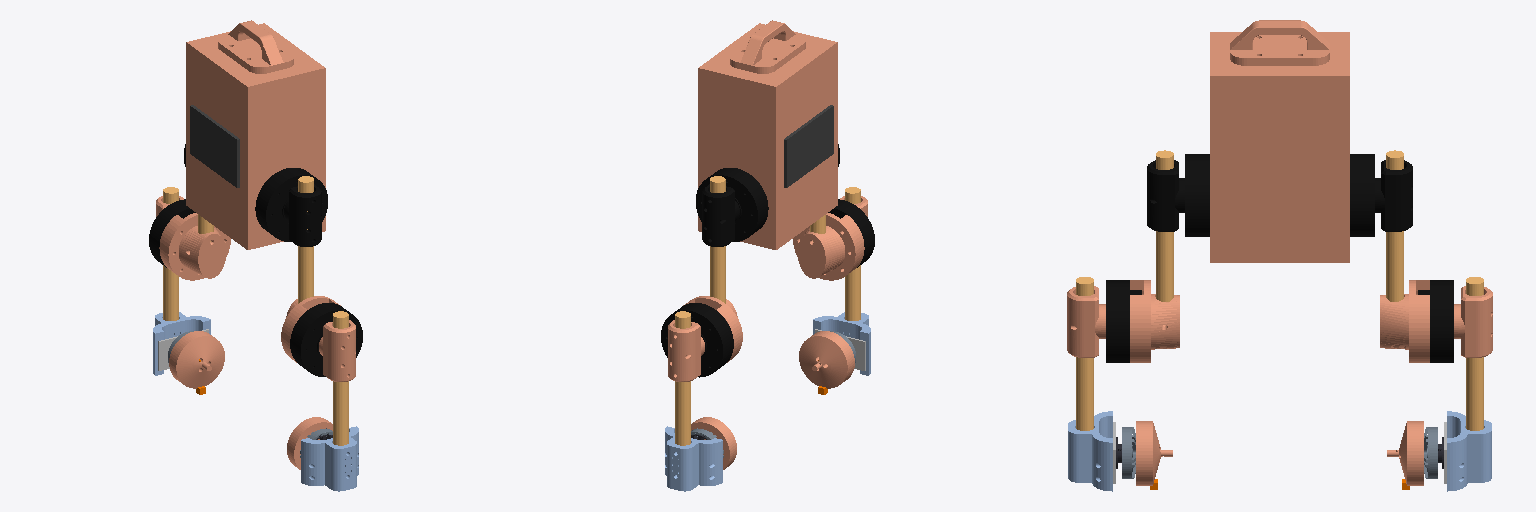
--- Render facts (derived) ---
3 views of the same robot in one strip: view 1: azimuth 30°, elevation 25°; view 2: azimuth 150°, elevation 25°; view 3: azimuth 270°, elevation 25° (orthographic).
Robot: upkie — 39 links, 38 joints (6 revolute, 32 fixed); root link base; default pose: all joints at 0.
Links seen in each view (by area): view 1: chassis, left_knee_stator, right_ankle_base, battery, handle, left_wheel_hub, right_knee_qdd100_stator, right_hip_qdd100_stator, right_hip_horn, right_knee_horn, right_tibia, left_ankle_base (+5 smaller); view 2: chassis, right_knee_stator, left_ankle_base, battery, handle, right_wheel_hub, left_knee_qdd100_stator, left_hip_qdd100_stator, left_hip_horn, left_knee_horn, left_tibia, right_ankle_base (+5 smaller); view 3: chassis, handle, right_knee_stator, left_knee_stator, left_ankle_base, right_ankle_base, left_knee_horn, right_knee_horn, left_hip_horn, right_hip_horn, left_hip_qdd100_stator, right_hip_qdd100_stator (+10 smaller).
Boxes of the visible links, x1=… form: chassis: x1=186, y1=23, x2=325, y2=249; left_knee_stator: x1=159, y1=213, x2=230, y2=280; right_ankle_base: x1=301, y1=426, x2=358, y2=491; battery: x1=190, y1=105, x2=239, y2=187; handle: x1=218, y1=20, x2=293, y2=73; left_wheel_hub: x1=169, y1=331, x2=224, y2=388; right_knee_qdd100_stator: x1=290, y1=303, x2=362, y2=376; right_hip_qdd100_stator: x1=255, y1=168, x2=327, y2=241; right_hip_horn: x1=284, y1=184, x2=321, y2=246; right_knee_horn: x1=319, y1=320, x2=355, y2=381; right_tibia: x1=333, y1=311, x2=348, y2=445; left_ankle_base: x1=153, y1=312, x2=210, y2=375; chassis: x1=698, y1=23, x2=837, y2=249; right_knee_stator: x1=793, y1=213, x2=864, y2=280; left_ankle_base: x1=665, y1=426, x2=722, y2=491; battery: x1=784, y1=105, x2=833, y2=187; handle: x1=730, y1=20, x2=805, y2=73; right_wheel_hub: x1=799, y1=331, x2=854, y2=388; left_knee_qdd100_stator: x1=661, y1=303, x2=733, y2=377; left_hip_qdd100_stator: x1=696, y1=168, x2=768, y2=241; left_hip_horn: x1=702, y1=184, x2=739, y2=246; left_knee_horn: x1=668, y1=320, x2=704, y2=381; left_tibia: x1=675, y1=311, x2=690, y2=445; right_ankle_base: x1=813, y1=312, x2=870, y2=375; chassis: x1=1210, y1=32, x2=1349, y2=262; handle: x1=1230, y1=20, x2=1329, y2=65; right_knee_stator: x1=1130, y1=280, x2=1179, y2=362; left_knee_stator: x1=1380, y1=280, x2=1429, y2=362; left_ankle_base: x1=1447, y1=411, x2=1491, y2=491; right_ankle_base: x1=1068, y1=411, x2=1112, y2=491; left_knee_horn: x1=1454, y1=286, x2=1492, y2=357; right_knee_horn: x1=1067, y1=286, x2=1105, y2=357; left_hip_horn: x1=1375, y1=160, x2=1412, y2=231; right_hip_horn: x1=1147, y1=160, x2=1184, y2=231; left_hip_qdd100_stator: x1=1350, y1=154, x2=1374, y2=236; right_hip_qdd100_stator: x1=1185, y1=154, x2=1209, y2=236.
Size in the robot's own frame: 0.13 by 0.5144 by 0.6189 metres.
23 mesh visuals loaded from 10 distinct referenced files (9 binary STL); not drawn: 2 (reference not matched to a file when rendering).

The robot description file, URDF, robot "upkie":
<?xml version="1.0" encoding="utf-8" ?>
<!--

Copyright 2022 Stéphane Caron

Licensed under the Apache License, Version 2.0 (the "License");
you may not use this file except in compliance with the License.
You may obtain a copy of the License at

    http://www.apache.org/licenses/LICENSE-2.0

Unless required by applicable law or agreed to in writing, software
distributed under the License is distributed on an "AS IS" BASIS,
WITHOUT WARRANTIES OR CONDITIONS OF ANY KIND, either express or implied.
See the License for the specific language governing permissions and
limitations under the License.

Conventions in this file:

- Links and joints are grouped by "assemblies", for example "left_hip" or
  "right_knee". We can recognize assemblies in link and joint names.

- A link is named "<assembly>_<identifier>", for example
  "left_hip_qdd100_stator" denotes the stator of the qdd100 of the left hip.

- A fixed joint is named "<child_link>_fix", for instance the
  "left_hip_qdd100_stator_fix" that attaches the qdd100 stator of the left-hip
  assembly to the chassis.

Note that the moteus convention is that positive angles correspond to clockwise
rotations when looking at the rotor / back of the moteus board. This is
opposite to the URDF default, so our motor stator-rotor joint axes are aligned
with the -z axis of the joint frame. See:
https://jpieper.com/2021/04/30/moteus-direction-configuration/

And in case of doubt:

- https://wiki.ros.org/urdf/XML/joint
- https://wiki.ros.org/urdf/XML/link

-->
<robot name="upkie">

    <material name="black">
        <color rgba="0.1 0.1 0.1 1" />
    </material>

    <material name="dark_gray">
        <color rgba="0.3 0.3 0.3 1" />
    </material>

    <material name="light_gray">
        <color rgba="0.8 0.8 0.8 1" />
    </material>

    <material name="orange">
        <color rgba="1.0 0.5 0.0 1" />
    </material>

    <material name="light_wood">
        <color rgba="1 0.77 0.48 1" />
    </material>

    <material name="terracotta_light">
        <color rgba="0.93 0.64 0.52 1" />
    </material>

    <material name="terracotta_transparent">
        <color rgba="0.93 0.64 0.52 0.8" />
    </material>

    <material name="chalky_blue">
        <color rgba="0.65 0.76 0.91 1" />
    </material>

    <material name="mj5208_rotor">
        <color rgba="0.5 0.55 0.6 1.0" />
    </material>

    <material name="mj5208_stator">
        <color rgba="0.22 0.22 0.25 1.0" />
    </material>

    <link name="base">
        <visual>
            <geometry>
                <box size="0.01 0.001 0.001" />
            </geometry>
            <material name="orange" />
        </visual>
        <collision>
            <geometry>
                <box size="0.01 0.01 0.01" />
            </geometry>
        </collision>
        <inertial>
            <mass value="0.001" />
            <!-- ./box_inertia.py 0.001 0.01 0.01 0.01 -->
            <inertia ixx="1.6666666666666667e-08" ixy="0" ixz="0" iyx="0" iyy="1.6666666666666667e-08" iyz="0" izx="0" izy="0" izz="1.6666666666666667e-08" />
        </inertial>
    </link>

    <!-- IMU -->

    <link name="imu">
        <visual>
            <geometry>
                <box size="0.01 0.01 0.01" />
            </geometry>
            <material name="orange" />
        </visual>
        <collision>
            <geometry>
                <box size="0.01 0.01 0.01" />
            </geometry>
        </collision>
        <inertial>
            <mass value="0.001" />
            <!-- ./box_inertia.py 0.001 0.01 0.01 0.01 -->
            <inertia ixx="1.6666666666666667e-08" ixy="0" ixz="0" iyx="0" iyy="1.6666666666666667e-08" iyz="0" izx="0" izy="0" izz="1.6666666666666667e-08" />
        </inertial>
    </link>

    <joint name="imu_fix" type="fixed">
        <origin rpy="0 0 3.141592653589793" xyz="0 0 0"/>  <!-- no translation -->
        <parent link="base" />
        <child link="imu" />
    </joint>

    <!-- Chassis -->

    <link name="chassis">
        <visual>
            <geometry>
                <box size="0.125 0.17 0.25" />
            </geometry>
            <material name="terracotta_transparent" />
        </visual>
        <collision>
            <geometry>
                <box size="0.125 0.17 0.25" />
            </geometry>
        </collision>
        <inertial>
            <mass value="1.0" />  <!-- measured net mass (5.4 [kg]) minus everything else -->
            <!-- ./box_inertia.py 1.0 0.125 0.17 0.25 -->
            <inertia ixx="0.007616666666666667" ixy="0" ixz="0" iyx="0" iyy="0.006510416666666666" iyz="0" izx="0" izy="0" izz="0.0037104166666666674" />
        </inertial>
    </link>

    <joint name="chassis_fix" type="fixed">
        <origin rpy="0 0 0" xyz="0 0 -0.1"/>
        <parent link="base" />
        <child link="chassis" />
    </joint>

    <!-- Battery -->

    <link name="battery">
        <visual>
            <geometry>
                <box size="0.13 0.074 0.055" />
            </geometry>
            <material name="dark_gray" />
        </visual>
        <collision>
            <geometry>
                <box size="0.13 0.074 0.055" />
            </geometry>
        </collision>
        <inertial>
            <mass value="0.800" />  <!-- imprecise measurement -->
            <!-- ./box_inertia.py 0.800 0.13 0.074 0.055 -->
            <inertia ixx="0.0005667333333333332" ixy="0" ixz="0" iyx="0" iyy="0.0013283333333333335" iyz="0" izx="0" izy="0" izz="0.0014917333333333332" />
        </inertial>
    </link>

    <joint name="battery_fix" type="fixed">
        <origin rpy="1.5707963267948966 0 1.5707963267948966" xyz="-0.04 0 0"/>
        <parent link="chassis" />
        <child link="battery" />
    </joint>

    <!-- Handle -->

    <link name="handle">
        <visual>
            <geometry>
                <mesh filename="package://upkie_description/meshes/handle.stl" />
            </geometry>
            <material name="terracotta_light" />
        </visual>
        <collision>
            <origin rpy="0 0 0" xyz="0 0 0.01"/>
            <geometry>
                <box size="0.120 0.07 0.04" />
            </geometry>
        </collision>
        <inertial>
            <origin rpy="0 0 0" xyz="0 0 0.01"/>
            <mass value="0.0525"/>  <!-- measured -->
            <!-- ./box_inertia.py 0.0525 0.120 0.07 0.04 -->
            <inertia ixx="2.84375e-05" ixy="0" ixz="0" iyx="0" iyy="7e-05" iyz="0" izx="0" izy="0" izz="8.44375e-05" />
        </inertial>
    </link>

    <joint name="handle_fix" type="fixed">
        <origin rpy="0 0 -1.5707963267948966" xyz="0 0 0.135"/>
        <parent link="chassis" />
        <child link="handle" />
    </joint>

    <!-- Left leg -->

    <!-- Left hip -->

    <link name="left_hip_qdd100_stator">
        <visual>
            <geometry>
                <mesh filename="package://upkie_description/meshes/mjbots/qdd100_stator.stl" />
            </geometry>
            <material name="black" />
        </visual>
        <collision>
            <origin rpy="0 0 0" xyz="0 0 0.015"/>
            <geometry>
                <cylinder radius="0.05" length="0.03" />
            </geometry>
        </collision>
        <inertial>
            <origin rpy="0 0 0" xyz="0 0 0.015"/>
            <mass value="0.47" />  <!-- guessed from spec -->
            <!-- ./cylinder_inertia.py 0.470 0.05 0.03 -->
            <inertia ixx="0.000329" ixy="0" ixz="0" iyx="0" iyy="0.000329" iyz="0" izx="0" izy="0" izz="0.0005875" />
        </inertial>
    </link>

    <joint name="left_hip_qdd100_stator_fix" type="fixed">
        <origin rpy="-1.5707963267948966 0 0" xyz="0.0 0.085 -0.064"/>
        <parent link="chassis" />
        <child link="left_hip_qdd100_stator" />
    </joint>

    <link name="left_hip_qdd100_rotor">
        <visual>
            <geometry>
                <mesh filename="package://upkie_description/meshes/mjbots/qdd100_rotor.stl" />
            </geometry>
            <material name="black" />
        </visual>
        <collision>
            <origin rpy="0 0 0" xyz="0 0 -0.0025"/>
            <geometry>
                <cylinder radius="0.023" length="0.005" />
            </geometry>
        </collision>
        <inertial>
            <origin rpy="0 0 0" xyz="0 0 -0.0025"/>
            <mass value="0.015" />  <!-- guessed from spec -->
            <!-- ./cylinder_inertia.py 0.015 0.023 0.005 -->
            <inertia ixx="2.0149999999999998e-06" ixy="0" ixz="0" iyx="0" iyy="2.0149999999999998e-06" iyz="0" izx="0" izy="0" izz="3.9675e-06" />
        </inertial>
    </link>

    <joint name="left_hip" type="revolute">
        <parent link="left_hip_qdd100_stator"/>
        <child link="left_hip_qdd100_rotor"/>
        <origin rpy="0 0 0" xyz="0 0 0.0292"/>
        <axis xyz="0 0 -1"/>  <!-- search "moteus-direction-configuration" -->
        <limit lower="-1.54" upper="1.54" velocity="0.7" effort="10.0"/>
    </joint>

    <link name="left_hip_horn">
        <visual>
            <geometry>
                <mesh filename="package://upkie_description/meshes/mjbots/qdd100_horn.stl" />
            </geometry>
            <material name="black" />
        </visual>
        <collision>
            <origin rpy="0 1.5707963267948966 0" xyz="0 0 0.025"/>
            <geometry>
                <cylinder radius="0.025" length="0.09" />
            </geometry>
        </collision>
        <inertial>
            <origin rpy="0 1.5707963267948966 0" xyz="0 0 0.025"/>
            <mass value="0.05267" />  <!-- measured, with screws -->
            <!-- ./cylinder_inertia.py 0.05267 0.025 0.09 -->
            <inertia ixx="4.37819375e-05" ixy="0" ixz="0" iyx="0" iyy="4.37819375e-05" iyz="0" izx="0" izy="0" izz="1.6459375e-05" />
        </inertial>
    </link>

    <joint name="left_hip_horn_fix" type="fixed">
        <parent link="left_hip_qdd100_rotor"/>
        <child link="left_hip_horn"/>
        <origin rpy="0 0 1.5707963267948966" xyz="0 0 0"/>
    </joint>

    <!-- Left femur -->

    <link name="left_femur">
        <visual>
            <geometry>
                <cylinder length="0.25" radius="0.011"/>
            </geometry>
            <material name="light_wood" />
        </visual>
        <collision>
            <geometry>
                <cylinder radius="0.012" length="0.26" />
            </geometry>
            <material name="light_wood" />
        </collision>
        <inertial>
            <mass value="0.056" />  <!-- measured, average over four sticks -->
            <!-- ./cylinder_inertia.py 0.056 0.012 0.026 -->
            <inertia ixx="5.170666666666667e-06" ixy="0" ixz="0" iyx="0" iyy="5.170666666666667e-06" iyz="0" izx="0" izy="0" izz="4.0320000000000005e-06" />
        </inertial>
    </link>

    <joint name="left_femur_fix" type="fixed">
        <parent link="left_hip_qdd100_rotor"/>
        <child link="left_femur"/>
        <origin rpy="1.5707963267948966 0 0" xyz="0 0.07 0.025"/>
    </joint>

    <!-- Left knee -->

    <joint name="left_knee_stator_fix" type="fixed">
        <parent link="left_femur"/>
        <child link="left_knee_stator"/>
        <origin rpy="0 0 -1.5707963267948966" xyz="0 0.042 -0.098"/>
    </joint>

    <link name="left_knee_stator">
        <visual>
            <geometry>
                <mesh filename="package://upkie_description/meshes/knee_stator.stl" />
            </geometry>
            <material name="terracotta_light" />
        </visual>
        <collision>
            <origin rpy="0 1.5707963267948966 0" xyz="0.03 0 0"/>
            <geometry>
                <cylinder radius="0.05" length="0.06" />
            </geometry>
        </collision>
        <inertial>
            <origin rpy="0 1.5707963267948966 0" xyz="0.03 0 0"/>
            <mass value="0.09874" />  <!-- Used Filament estimate from Prusa Slicer -->
            <!-- ./cylinder_inertia.py 0.09874 0.05 0.06 -->
            <inertia ixx="9.133450000000001e-05" ixy="0" ixz="0" iyx="0" iyy="9.133450000000001e-05" iyz="0" izx="0" izy="0" izz="0.000123425" />
        </inertial>
    </link>

    <link name="left_knee_qdd100_stator">
        <visual>
            <geometry>
                <mesh filename="package://upkie_description/meshes/mjbots/qdd100_stator.stl" />
            </geometry>
            <material name="black" />
        </visual>
        <collision>
            <origin rpy="0 0 0" xyz="0 0 0.015"/>
            <geometry>
                <cylinder radius="0.05" length="0.03" />
            </geometry>
        </collision>
        <inertial>
            <origin rpy="0 0 0" xyz="0 0 0.015"/>
            <mass value="0.47" />  <!-- guessed from spec -->
            <!-- ./cylinder_inertia.py 0.470 0.05 0.03 -->
            <inertia ixx="0.000329" ixy="0" ixz="0" iyx="0" iyy="0.000329" iyz="0" izx="0" izy="0" izz="0.0005875" />
        </inertial>
    </link>

    <joint name="left_knee_qdd100_stator_fix" type="fixed">
        <parent link="left_knee_stator"/>
        <child link="left_knee_qdd100_stator"/>
        <origin rpy="-1.5707963267948966 0 1.5707963267948966" xyz="0 0 0"/>
    </joint>

    <joint name="left_knee" type="revolute">
        <parent link="left_knee_qdd100_stator"/>
        <child link="left_knee_qdd100_rotor"/>
        <origin rpy="0 0 0" xyz="0 0 0.0292"/>
        <axis xyz="0 0 -1"/>  <!-- search "moteus-direction-configuration" -->
        <limit lower="-2.57" upper="2.57" velocity="0.7" effort="10.0"/>
    </joint>

    <link name="left_knee_qdd100_rotor">
        <visual>
            <geometry>
                <mesh filename="package://upkie_description/meshes/mjbots/qdd100_rotor.stl" />
            </geometry>
            <material name="black" />
        </visual>
        <collision>
            <origin rpy="0 0 0" xyz="0 0 -0.0025"/>
            <geometry>
                <cylinder radius="0.023" length="0.005" />
            </geometry>
        </collision>
        <inertial>
            <origin rpy="0 0 0" xyz="0 0 -0.0025"/>
            <mass value="0.015" />  <!-- guessed from spec -->
            <!-- ./cylinder_inertia.py 0.015 0.023 0.005 -->
            <inertia ixx="2.0149999999999998e-06" ixy="0" ixz="0" iyx="0" iyy="2.0149999999999998e-06" iyz="0" izx="0" izy="0" izz="3.9675e-06" />
        </inertial>
    </link>

    <link name="left_knee_horn">
        <visual>
            <geometry>
                <mesh filename="package://upkie_description/meshes/mjbots/qdd100_horn.stl" />
            </geometry>
            <material name="terracotta_light" />
        </visual>
        <collision>
            <origin rpy="0 1.5707963267948966 0" xyz="0 0 0.025"/>
            <geometry>
                <cylinder radius="0.025" length="0.09" />
            </geometry>
        </collision>
        <inertial>
            <origin rpy="0 1.5707963267948966 0" xyz="0 0 0.025"/>
            <mass value="0.05267" />  <!-- measured, with screws -->
            <!-- ./cylinder_inertia.py 0.05267 0.025 0.09 -->
            <inertia ixx="4.37819375e-05" ixy="0" ixz="0" iyx="0" iyy="4.37819375e-05" iyz="0" izx="0" izy="0" izz="1.6459375e-05" />
        </inertial>
    </link>

    <joint name="left_knee_horn_fix" type="fixed">
        <parent link="left_knee_qdd100_rotor"/>
        <child link="left_knee_horn"/>
        <origin rpy="0 0 1.5707963267948966" xyz="0 0 0"/>
    </joint>

    <!-- Left tibia -->

    <link name="left_tibia">
        <visual>
            <geometry>
                <cylinder length="0.25" radius="0.011"/>
            </geometry>
            <material name="light_wood" />
        </visual>
        <collision>
            <geometry>
                <cylinder radius="0.012" length="0.26" />
            </geometry>
            <material name="light_wood" />
        </collision>
        <inertial>
            <mass value="0.056" />  <!-- measured, average over four sticks -->
            <!-- ./cylinder_inertia.py 0.056 0.012 0.026 -->
            <inertia ixx="5.170666666666667e-06" ixy="0" ixz="0" iyx="0" iyy="5.170666666666667e-06" iyz="0" izx="0" izy="0" izz="4.0320000000000005e-06" />
        </inertial>
    </link>

    <joint name="left_tibia_fix" type="fixed">
        <parent link="left_knee_qdd100_rotor"/>
        <child link="left_tibia"/>
        <origin rpy="1.5707963267948966 3.141592653589793 0" xyz="0 0.07 0.025"/>
    </joint>

    <!-- Left ankle -->

    <link name="left_ankle_base">
        <visual>
            <geometry>
                <mesh filename="package://upkie_description/meshes/ankle_stator.stl" />
            </geometry>
            <material name="chalky_blue" />
        </visual>
        <collision>
            <origin rpy="0 0 0" xyz="0 0.002 0.0275" />
            <geometry>
                <box size="0.092 0.068 0.056" />
            </geometry>
        </collision>
        <inertial>
            <origin rpy="0 0 0" xyz="0 0.002 0.0275" />
            <mass value="0.07863" />  <!-- measured, with screws -->
            <!-- ./box_inertia.py 0.07863 0.092 0.068 0.056 -->
            <inertia ixx="5.084740000000001e-05" ixy="0" ixz="0" iyx="0" iyy="7.6009e-05" iyz="0" izx="0" izy="0" izz="8.575912e-05" />
        </inertial>
    </link>

    <joint name="left_ankle_base_fix" type="fixed">
        <parent link="left_tibia"/>
        <child link="left_ankle_base"/>
        <origin rpy="1.5707963267948966 0 0" xyz="0 0.034 -0.105"/>
    </joint>

    <link name="left_ankle_plate">
        <visual>
            <geometry>
                <box size="0.08 0.045 0.003" />
            </geometry>
            <material name="light_gray" />
        </visual>
        <collision>
            <geometry>
                <box size="0.09 0.046 0.004" />
            </geometry>
        </collision>
        <inertial>
            <mass value="0.02" />  <!-- pure guess (^_^") -->
            <!-- ./box_inertia.py 0.02 0.09 0.046 0.004 -->
            <inertia ixx="3.5533333333333333e-06" ixy="0" ixz="0" iyx="0" iyy="1.3526666666666667e-05" iyz="0" izx="0" izy="0" izz="1.7026666666666667e-05" />
        </inertial>
    </link>

    <joint name="left_ankle_plate_fix" type="fixed">
        <parent link="left_ankle_base"/>
        <child link="left_ankle_plate"/>
        <origin rpy="0 0 0" xyz="0 0 -0.0015"/>
    </joint>

    <link name="left_ankle_mj5208_stator">
        <visual>
            <geometry>
                <mesh filename="package://upkie_description/meshes/mjbots/mj5208_stator.stl" />
            </geometry>
            <material name="mj5208_stator" />
        </visual>
        <collision>
            <origin rpy="0 0 0" xyz="0 0 0.01" />
            <geometry>
                <cylinder radius="0.03" length="0.018" />
            </geometry>
        </collision>
        <inertial>
            <origin rpy="0 0 0" xyz="0 0 0.01" />
            <mass value="0.1721" />  <!-- measured 242.1 [g], minus 20 [g] for the plate, minus 50 [g] for the rotor -->
            <!-- ./cylinder_inertia.py 0.1721 0.03 0.018 -->
            <inertia ixx="4.3369200000000005e-05" ixy="0" ixz="0" iyx="0" iyy="4.3369200000000005e-05" iyz="0" izx="0" izy="0" izz="7.7445e-05" />
        </inertial>
    </link>

    <joint name="left_ankle_mj5208_stator_fix" type="fixed">
        <parent link="left_ankle_plate"/>
        <child link="left_ankle_mj5208_stator"/>
        <origin rpy="3.141592653589793 0 0" xyz="0 0 -0.0015"/>
    </joint>

    <link name="left_ankle_mj5208_rotor">
        <visual>
            <geometry>
                <mesh filename="package://upkie_description/meshes/mjbots/mj5208_rotor.stl" />
            </geometry>
            <material name="mj5208_rotor" />
        </visual>
        <collision>
            <origin rpy="0 0 0" xyz="0 0 0.015" />
            <geometry>
                <cylinder radius="0.034" length="0.016" />
            </geometry>
        </collision>
        <inertial>
            <origin rpy="0 0 0" xyz="0 0 0.015" />
            <mass value="0.05" />  <!-- guess at 50 [g] for the rotor -->
            <!-- ./cylinder_inertia.py 0.05 0.034 0.016 -->
            <inertia ixx="1.551666666666667e-05" ixy="0" ixz="0" iyx="0" iyy="1.551666666666667e-05" iyz="0" izx="0" izy="0" izz="2.8900000000000005e-05" />
        </inertial>
    </link>

    <joint name="left_wheel" type="revolute">
        <parent link="left_ankle_mj5208_stator"/>
        <child link="left_ankle_mj5208_rotor"/>
        <origin rpy="0 0 0" xyz="0 0 0"/>
        <axis xyz="0 0 -1"/>  <!-- search "moteus-direction-configuration" -->
        <limit velocity="0.7" effort="1.0"/>
    </joint>

    <!-- Left wheel -->

    <link name="left_wheel_hub">
        <visual>
            <geometry>
                <mesh filename="package://upkie_description/meshes/wheel_hub.stl" />
            </geometry>
            <material name="terracotta_light" />
        </visual>
        <collision>
            <origin rpy="0 0 0" xyz="0 0 0.0125"/>
            <geometry>
                <cylinder radius="0.039" length="0.025" />
            </geometry>
        </collision>
        <inertial>
            <origin rpy="0 0 0" xyz="0 0 0.0125"/>
            <mass value="0.0454" />  <!-- measured, with hub adapter -->
            <!-- ./cylinder_inertia.py 0.0454 0.039 0.025 -->
            <inertia ixx="1.9627933333333332e-05" ixy="0" ixz="0" iyx="0" iyy="1.9627933333333332e-05" iyz="0" izx="0" izy="0" izz="3.45267e-05" />
        </inertial>
    </link>

    <joint name="left_wheel_hub_fix" type="fixed">
        <parent link="left_ankle_mj5208_rotor"/>
        <child link="left_wheel_hub"/>
        <origin rpy="0 0 0" xyz="0 0 0.0251"/>
    </joint>

    <link name="left_wheel_tire">
        <visual>
            <geometry>
                <mesh filename="package://upkie_description/meshes/wheel_tire/wheel_tire.stl" />
            </geometry>
            <material name="dark_gray" />
        </visual>
        <collision>
            <geometry>
                <cylinder radius="0.05" length="0.04" />
            </geometry>
        </collision>
        <inertial>
            <mass value="0.08715" />  <!-- measured -->
            <!-- ./cylinder_inertia.py 0.08715 0.05 0.04 -->
            <inertia ixx="6.608875000000002e-05" ixy="0" ixz="0" iyx="0" iyy="6.608875000000002e-05" iyz="0" izx="0" izy="0" izz="0.00010893750000000003" />
        </inertial>
        <contact>
            <lateral_friction value="1.0"/>
            <rolling_friction value="0.01"/>
            <stiffness value="30000"/>
            <damping value="1000"/>
        </contact>
    </link>

    <joint name="left_wheel_fix" type="fixed">
        <parent link="left_wheel_hub"/>
        <child link="left_wheel_tire"/>
        <origin rpy="0 0 0" xyz="0 0 0.0209"/>
    </joint>

    <link name="left_contact">
        <visual>
            <origin rpy="0 0 0" xyz="0 0 0.005" />
            <geometry>
                <box size="0.01 0.01 0.01" />
            </geometry>
            <material name="orange" />
        </visual>
        <collision>
            <origin rpy="0 0 0" xyz="0 0 0.005" />
            <geometry>
                <box size="0.01 0.01 0.01" />
            </geometry>
        </collision>
        <inertial>
            <origin rpy="0 0 0" xyz="0 0 0.005" />
            <mass value="0.01"/>  <!-- virtual -->
            <!-- ./box_inertia.py 0.01 0.01 0.01 0.01 -->
            <inertia ixx="1.6666666666666668e-07" ixy="0" ixz="0" iyx="0" iyy="1.6666666666666668e-07" iyz="0" izx="0" izy="0" izz="1.6666666666666668e-07" />
        </inertial>
    </link>

    <joint name="left_contact_fix" type="fixed">
        <parent link="left_wheel_tire"/>
        <child link="left_contact"/>
        <!-- contact target is a bit inside to avoid collisions with its box -->
        <!-- tangent contact surface would be xyz="0 0.05 0" -->
        <origin rpy="1.5707963267948966 0 0" xyz="0 0.047 0"/>
    </joint>

    <link name="left_wheel_center">
        <visual>
            <geometry>
                <box size="0.01 0.01 0.01" />
            </geometry>
            <material name="orange" />
        </visual>
        <collision>
            <geometry>
                <box size="0.01 0.01 0.01" />
            </geometry>
        </collision>
        <inertial>
            <mass value="0.01"/>  <!-- virtual -->
            <!-- ./box_inertia.py 0.01 0.01 0.01 0.01 -->
            <inertia ixx="1.6666666666666668e-07" ixy="0" ixz="0" iyx="0" iyy="1.6666666666666668e-07" iyz="0" izx="0" izy="0" izz="1.6666666666666668e-07" />
        </inertial>
    </link>

    <joint name="left_wheel_center_fix" type="fixed">
        <parent link="left_wheel_tire"/>
        <child link="left_wheel_center"/>
        <origin rpy="1.5707963267948966 3.141592653589793 0" xyz="0 0 0"/>
    </joint>

    <!-- Right leg -->

    <!-- Right hip -->

    <link name="right_hip_qdd100_stator">
        <visual>
            <geometry>
                <mesh filename="package://upkie_description/meshes/mjbots/qdd100_stator.stl" />
            </geometry>
            <material name="black" />
        </visual>
        <collision>
            <origin rpy="0 0 0" xyz="0 0 0.015"/>
            <geometry>
                <cylinder radius="0.05" length="0.03" />
            </geometry>
        </collision>
        <inertial>
            <origin rpy="0 0 0" xyz="0 0 0.015"/>
            <mass value="0.47" />  <!-- guessed from spec -->
            <!-- ./cylinder_inertia.py 0.470 0.05 0.03 -->
            <inertia ixx="0.000329" ixy="0" ixz="0" iyx="0" iyy="0.000329" iyz="0" izx="0" izy="0" izz="0.0005875" />
        </inertial>
    </link>

    <joint name="right_hip_qdd100_stator_fix" type="fixed">
        <origin rpy="1.5707963267948966 3.141592653589793 0" xyz="0.0 -0.085 -0.064"/>
        <parent link="chassis" />
        <child link="right_hip_qdd100_stator" />
    </joint>

    <link name="right_hip_qdd100_rotor">
        <visual>
            <geometry>
                <mesh filename="package://upkie_description/meshes/mjbots/qdd100_rotor.stl" />
            </geometry>
            <material name="black" />
        </visual>
        <collision>
            <origin rpy="0 0 0" xyz="0 0 -0.0025"/>
            <geometry>
                <cylinder radius="0.023" length="0.005" />
            </geometry>
        </collision>
        <inertial>
            <origin rpy="0 0 0" xyz="0 0 -0.0025"/>
            <mass value="0.015" />  <!-- guessed from spec -->
            <!-- ./cylinder_inertia.py 0.015 0.023 0.005 -->
            <inertia ixx="2.0149999999999998e-06" ixy="0" ixz="0" iyx="0" iyy="2.0149999999999998e-06" iyz="0" izx="0" izy="0" izz="3.9675e-06" />
        </inertial>
    </link>

    <joint name="right_hip" type="revolute">
        <parent link="right_hip_qdd100_stator"/>
        <child link="right_hip_qdd100_rotor"/>
        <origin rpy="0 0 0" xyz="0 0 0.0292"/>
        <axis xyz="0 0 -1"/>  <!-- search "moteus-direction-configuration" -->
        <limit lower="-1.54" upper="1.54" velocity="0.7" effort="10.0"/>
    </joint>

    <link name="right_hip_horn">
        <visual>
            <geometry>
                <mesh filename="package://upkie_description/meshes/mjbots/qdd100_horn.stl" />
            </geometry>
            <material name="black" />
        </visual>
        <collision>
            <origin rpy="0 1.5707963267948966 0" xyz="0 0 0.025"/>
            <geometry>
                <cylinder radius="0.025" length="0.09" />
            </geometry>
        </collision>
        <inertial>
            <origin rpy="0 1.5707963267948966 0" xyz="0 0 0.025"/>
            <mass value="0.05267" />  <!-- measured, with screws -->
            <!-- ./cylinder_inertia.py 0.05267 0.025 0.09 -->
            <inertia ixx="4.37819375e-05" ixy="0" ixz="0" iyx="0" iyy="4.37819375e-05" iyz="0" izx="0" izy="0" izz="1.6459375e-05" />
        </inertial>
    </link>

    <joint name="right_hip_horn_fix" type="fixed">
        <parent link="right_hip_qdd100_rotor"/>
        <child link="right_hip_horn"/>
        <origin rpy="0 0 1.5707963267948966" xyz="0 0 0"/>
    </joint>

    <!-- Right femur -->

    <link name="right_femur">
        <visual>
            <geometry>
                <cylinder length="0.25" radius="0.011"/>
            </geometry>
            <material name="light_wood" />
        </visual>
        <collision>
            <geometry>
                <cylinder radius="0.012" length="0.26" />
            </geometry>
            <material name="light_wood" />
        </collision>
        <inertial>
            <mass value="0.056" />  <!-- measured, average over four sticks -->
            <!-- ./cylinder_inertia.py 0.056 0.012 0.026 -->
            <inertia ixx="5.170666666666667e-06" ixy="0" ixz="0" iyx="0" iyy="5.170666666666667e-06" iyz="0" izx="0" izy="0" izz="4.0320000000000005e-06" />
        </inertial>
    </link>

    <joint name="right_femur_fix" type="fixed">
        <parent link="right_hip_qdd100_rotor"/>
        <child link="right_femur"/>
        <origin rpy="1.5707963267948966 0 0" xyz="0 0.07 0.025"/>
    </joint>

    <!-- Right knee -->

    <joint name="right_knee_stator_fix" type="fixed">
        <parent link="right_femur"/>
        <child link="right_knee_stator"/>
        <origin rpy="0 0 -1.5707963267948966" xyz="0 0.042 -0.098"/>
    </joint>

    <link name="right_knee_stator">
        <visual>
            <geometry>
                <mesh filename="package://upkie_description/meshes/knee_stator.stl" />
            </geometry>
            <material name="terracotta_light" />
        </visual>
        <collision>
            <origin rpy="0 1.5707963267948966 0" xyz="0.03 0 0"/>
            <geometry>
                <cylinder radius="0.05" length="0.06" />
            </geometry>
        </collision>
        <inertial>
            <origin rpy="0 1.5707963267948966 0" xyz="0.03 0 0"/>
            <mass value="0.09874" />  <!-- Used Filament estimate from Prusa Slicer -->
            <!-- ./cylinder_inertia.py 0.09874 0.05 0.06 -->
            <inertia ixx="9.133450000000001e-05" ixy="0" ixz="0" iyx="0" iyy="9.133450000000001e-05" iyz="0" izx="0" izy="0" izz="0.000123425" />
        </inertial>
    </link>

    <link name="right_knee_qdd100_stator">
        <visual>
            <geometry>
                <mesh filename="package://upkie_description/meshes/mjbots/qdd100_stator.stl" />
            </geometry>
            <material name="black" />
        </visual>
        <collision>
            <origin rpy="0 0 0" xyz="0 0 0.015"/>
            <geometry>
                <cylinder radius="0.05" length="0.03" />
            </geometry>
        </collision>
        <inertial>
            <origin rpy="0 0 0" xyz="0 0 0.015"/>
            <mass value="0.47" />  <!-- guessed from spec -->
            <!-- ./cylinder_inertia.py 0.470 0.05 0.03 -->
            <inertia ixx="0.000329" ixy="0" ixz="0" iyx="0" iyy="0.000329" iyz="0" izx="0" izy="0" izz="0.0005875" />
        </inertial>
    </link>

    <joint name="right_knee_qdd100_stator_fix" type="fixed">
        <parent link="right_knee_stator"/>
        <child link="right_knee_qdd100_stator"/>
        <origin rpy="-1.5707963267948966 0 1.5707963267948966" xyz="0 0 0"/>
    </joint>

    <joint name="right_knee" type="revolute">
        <parent link="right_knee_qdd100_stator"/>
        <child link="right_knee_qdd100_rotor"/>
        <origin rpy="0 0 0" xyz="0 0 0.0292"/>
        <axis xyz="0 0 -1"/>  <!-- search "moteus-direction-configuration" -->
        <limit lower="-2.57" upper="2.57" velocity="0.7" effort="10.0"/>
    </joint>

    <link name="right_knee_qdd100_rotor">
        <visual>
            <geometry>
                <mesh filename="package://upkie_description/meshes/mjbots/qdd100_rotor.stl" />
            </geometry>
            <material name="black" />
        </visual>
        <collision>
            <origin rpy="0 0 0" xyz="0 0 -0.0025"/>
            <geometry>
                <cylinder radius="0.023" length="0.005" />
            </geometry>
        </collision>
        <inertial>
            <origin rpy="0 0 0" xyz="0 0 -0.0025"/>
            <mass value="0.015" />  <!-- guessed from spec -->
            <!-- ./cylinder_inertia.py 0.015 0.023 0.005 -->
            <inertia ixx="2.0149999999999998e-06" ixy="0" ixz="0" iyx="0" iyy="2.0149999999999998e-06" iyz="0" izx="0" izy="0" izz="3.9675e-06" />
        </inertial>
    </link>

    <link name="right_knee_horn">
        <visual>
            <geometry>
                <mesh filename="package://upkie_description/meshes/mjbots/qdd100_horn.stl" />
            </geometry>
            <material name="terracotta_light" />
        </visual>
        <collision>
            <origin rpy="0 1.5707963267948966 0" xyz="0 0 0.025"/>
            <geometry>
                <cylinder radius="0.025" length="0.09" />
            </geometry>
        </collision>
        <inertial>
            <origin rpy="0 1.5707963267948966 0" xyz="0 0 0.025"/>
            <mass value="0.05267" />  <!-- measured, with screws -->
            <!-- ./cylinder_inertia.py 0.05267 0.025 0.09 -->
            <inertia ixx="4.37819375e-05" ixy="0" ixz="0" iyx="0" iyy="4.37819375e-05" iyz="0" izx="0" izy="0" izz="1.6459375e-05" />
        </inertial>
    </link>

    <joint name="right_knee_horn_fix" type="fixed">
        <parent link="right_knee_qdd100_rotor"/>
        <child link="right_knee_horn"/>
        <origin rpy="0 0 1.5707963267948966" xyz="0 0 0"/>
    </joint>

    <!-- Right tibia -->

    <link name="right_tibia">
        <visual>
            <geometry>
                <cylinder length="0.25" radius="0.011"/>
            </geometry>
            <material name="light_wood" />
        </visual>
        <collision>
            <geometry>
                <cylinder radius="0.012" length="0.26" />
            </geometry>
            <material name="light_wood" />
        </collision>
        <inertial>
            <mass value="0.056" />  <!-- measured, average over four sticks -->
            <!-- ./cylinder_inertia.py 0.056 0.012 0.026 -->
            <inertia ixx="5.170666666666667e-06" ixy="0" ixz="0" iyx="0" iyy="5.170666666666667e-06" iyz="0" izx="0" izy="0" izz="4.0320000000000005e-06" />
        </inertial>
    </link>

    <joint name="right_tibia_fix" type="fixed">
        <parent link="right_knee_qdd100_rotor"/>
        <child link="right_tibia"/>
        <origin rpy="1.5707963267948966 3.141592653589793 0" xyz="0 0.07 0.025"/>
    </joint>

    <!-- Right ankle -->

    <link name="right_ankle_base">
        <visual>
            <geometry>
                <mesh filename="package://upkie_description/meshes/ankle_stator.stl" />
            </geometry>
            <material name="chalky_blue" />
        </visual>
        <collision>
            <origin rpy="0 0 0" xyz="0 0.002 0.0275" />
            <geometry>
                <box size="0.092 0.068 0.056" />
            </geometry>
        </collision>
        <inertial>
            <origin rpy="0 0 0" xyz="0 0.002 0.0275" />
            <mass value="0.07863" />  <!-- measured, with screws -->
            <!-- ./box_inertia.py 0.07863 0.092 0.068 0.056 -->
            <inertia ixx="5.084740000000001e-05" ixy="0" ixz="0" iyx="0" iyy="7.6009e-05" iyz="0" izx="0" izy="0" izz="8.575912e-05" />
        </inertial>
    </link>

    <joint name="right_ankle_base_fix" type="fixed">
        <parent link="right_tibia"/>
        <child link="right_ankle_base"/>
        <origin rpy="1.5707963267948966 0 0" xyz="0 0.034 -0.105"/>
    </joint>

    <link name="right_ankle_plate">
        <visual>
            <geometry>
                <box size="0.08 0.045 0.003" />
            </geometry>
            <material name="light_gray" />
        </visual>
        <collision>
            <geometry>
                <box size="0.09 0.046 0.004" />
            </geometry>
        </collision>
        <inertial>
            <mass value="0.02" />  <!-- pure guess (^_^") -->
            <!-- ./box_inertia.py 0.02 0.09 0.046 0.004 -->
            <inertia ixx="3.5533333333333333e-06" ixy="0" ixz="0" iyx="0" iyy="1.3526666666666667e-05" iyz="0" izx="0" izy="0" izz="1.7026666666666667e-05" />
        </inertial>
    </link>

    <joint name="right_ankle_plate_fix" type="fixed">
        <parent link="right_ankle_base"/>
        <child link="right_ankle_plate"/>
        <origin rpy="0 0 0" xyz="0 0 -0.0015"/>
    </joint>

    <link name="right_ankle_mj5208_stator">
        <visual>
            <geometry>
                <mesh filename="package://upkie_description/meshes/mjbots/mj5208_stator.stl" />
            </geometry>
            <material name="mj5208_stator" />
        </visual>
        <collision>
            <origin rpy="0 0 0" xyz="0 0 0.01" />
            <geometry>
                <cylinder radius="0.03" length="0.018" />
            </geometry>
        </collision>
        <inertial>
            <origin rpy="0 0 0" xyz="0 0 0.01" />
            <mass value="0.1721" />  <!-- measured 242.1 [g], minus 20 [g] for the plate, minus 50 [g] for the rotor -->
            <!-- ./cylinder_inertia.py 0.1721 0.03 0.018 -->
            <inertia ixx="4.3369200000000005e-05" ixy="0" ixz="0" iyx="0" iyy="4.3369200000000005e-05" iyz="0" izx="0" izy="0" izz="7.7445e-05" />
        </inertial>
    </link>

    <joint name="right_ankle_mj5208_stator_fix" type="fixed">
        <parent link="right_ankle_plate"/>
        <child link="right_ankle_mj5208_stator"/>
        <origin rpy="3.141592653589793 0 0" xyz="0 0 -0.0015"/>
    </joint>

    <link name="right_ankle_mj5208_rotor">
        <visual>
            <geometry>
                <mesh filename="package://upkie_description/meshes/mjbots/mj5208_rotor.stl" />
            </geometry>
            <material name="mj5208_rotor" />
        </visual>
        <collision>
            <origin rpy="0 0 0" xyz="0 0 0.015" />
            <geometry>
                <cylinder radius="0.034" length="0.016" />
            </geometry>
        </collision>
        <inertial>
            <origin rpy="0 0 0" xyz="0 0 0.015" />
            <mass value="0.05" />  <!-- guess at 50 [g] for the rotor -->
            <!-- ./cylinder_inertia.py 0.05 0.034 0.016 -->
            <inertia ixx="1.551666666666667e-05" ixy="0" ixz="0" iyx="0" iyy="1.551666666666667e-05" iyz="0" izx="0" izy="0" izz="2.8900000000000005e-05" />
        </inertial>
    </link>

    <joint name="right_wheel" type="revolute">
        <parent link="right_ankle_mj5208_stator"/>
        <child link="right_ankle_mj5208_rotor"/>
        <origin rpy="0 0 0" xyz="0 0 0"/>
        <axis xyz="0 0 -1"/>  <!-- search "moteus-direction-configuration" -->
        <limit velocity="0.7" effort="1.0"/>
    </joint>

    <!-- Right wheel -->

    <link name="right_wheel_hub">
        <visual>
            <geometry>
                <mesh filename="package://upkie_description/meshes/wheel_hub.stl" />
            </geometry>
            <material name="terracotta_light" />
        </visual>
        <collision>
            <origin rpy="0 0 0" xyz="0 0 0.0125"/>
            <geometry>
                <cylinder radius="0.039" length="0.025" />
            </geometry>
        </collision>
        <inertial>
            <origin rpy="0 0 0" xyz="0 0 0.0125"/>
            <mass value="0.0454" />  <!-- measured, with hub adapter -->
            <!-- ./cylinder_inertia.py 0.0454 0.039 0.025 -->
            <inertia ixx="1.9627933333333332e-05" ixy="0" ixz="0" iyx="0" iyy="1.9627933333333332e-05" iyz="0" izx="0" izy="0" izz="3.45267e-05" />
        </inertial>
    </link>

    <joint name="right_wheel_hub_fix" type="fixed">
        <parent link="right_ankle_mj5208_rotor"/>
        <child link="right_wheel_hub"/>
        <origin rpy="0 0 0" xyz="0 0 0.0251"/>
    </joint>

    <link name="right_wheel_tire">
        <visual>
            <geometry>
                <mesh filename="package://upkie_description/meshes/wheel_tire/wheel_tire.stl" />
            </geometry>
            <material name="dark_gray" />
        </visual>
        <collision>
            <geometry>
                <cylinder radius="0.05" length="0.04" />
            </geometry>
        </collision>
        <inertial>
            <mass value="0.08715" />  <!-- measured -->
            <!-- ./cylinder_inertia.py 0.08715 0.05 0.04 -->
            <inertia ixx="6.608875000000002e-05" ixy="0" ixz="0" iyx="0" iyy="6.608875000000002e-05" iyz="0" izx="0" izy="0" izz="0.00010893750000000003" />
        </inertial>
        <contact>
            <lateral_friction value="1.0"/>
            <rolling_friction value="0.01"/>
            <stiffness value="30000"/>
            <damping value="1000"/>
        </contact>
    </link>

    <joint name="right_wheel_fix" type="fixed">
        <parent link="right_wheel_hub"/>
        <child link="right_wheel_tire"/>
        <origin rpy="0 0 0" xyz="0 0 0.0209"/>
    </joint>

    <link name="right_contact">
        <visual>
            <origin rpy="0 0 0" xyz="0 0 0.005" />
            <geometry>
                <box size="0.01 0.01 0.01" />
            </geometry>
            <material name="orange" />
        </visual>
        <collision>
            <origin rpy="0 0 0" xyz="0 0 0.005" />
            <geometry>
                <box size="0.01 0.01 0.01" />
            </geometry>
        </collision>
        <inertial>
            <origin rpy="0 0 0" xyz="0 0 0.005" />
            <mass value="0.01"/>  <!-- virtual -->
            <!-- ./box_inertia.py 0.01 0.01 0.01 0.01 -->
            <inertia ixx="1.6666666666666668e-07" ixy="0" ixz="0" iyx="0" iyy="1.6666666666666668e-07" iyz="0" izx="0" izy="0" izz="1.6666666666666668e-07" />
        </inertial>
    </link>

    <joint name="right_contact_fix" type="fixed">
        <parent link="right_wheel_tire"/>
        <child link="right_contact"/>
        <!-- contact target is a bit inside to avoid collisions with its box -->
        <!-- tangent contact surface would be xyz="0 0.05 0" -->
        <origin rpy="1.5707963267948966 0 0" xyz="0 0.047 0"/>
    </joint>

    <link name="right_wheel_center">
        <visual>
            <geometry>
                <box size="0.01 0.01 0.01" />
            </geometry>
            <material name="orange" />
        </visual>
        <collision>
            <geometry>
                <box size="0.01 0.01 0.01" />
            </geometry>
        </collision>
        <inertial>
            <mass value="0.01"/>  <!-- virtual -->
            <!-- ./box_inertia.py 0.01 0.01 0.01 0.01 -->
            <inertia ixx="1.6666666666666668e-07" ixy="0" ixz="0" iyx="0" iyy="1.6666666666666668e-07" iyz="0" izx="0" izy="0" izz="1.6666666666666668e-07" />
        </inertial>
    </link>

    <joint name="right_wheel_center_fix" type="fixed">
        <parent link="right_wheel_tire"/>
        <child link="right_wheel_center"/>
        <origin rpy="1.5707963267948966 3.141592653589793 0" xyz="0 0 0"/>
    </joint>

</robot>
